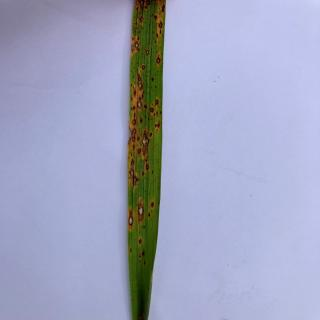Blast: (128, 117, 155, 152), (128, 85, 150, 116), (146, 6, 170, 34), (127, 36, 152, 57), (132, 198, 151, 224), (148, 193, 159, 214), (150, 95, 162, 113), (127, 211, 137, 231), (153, 50, 164, 66), (128, 170, 140, 184), (143, 163, 156, 175), (128, 160, 137, 168)
